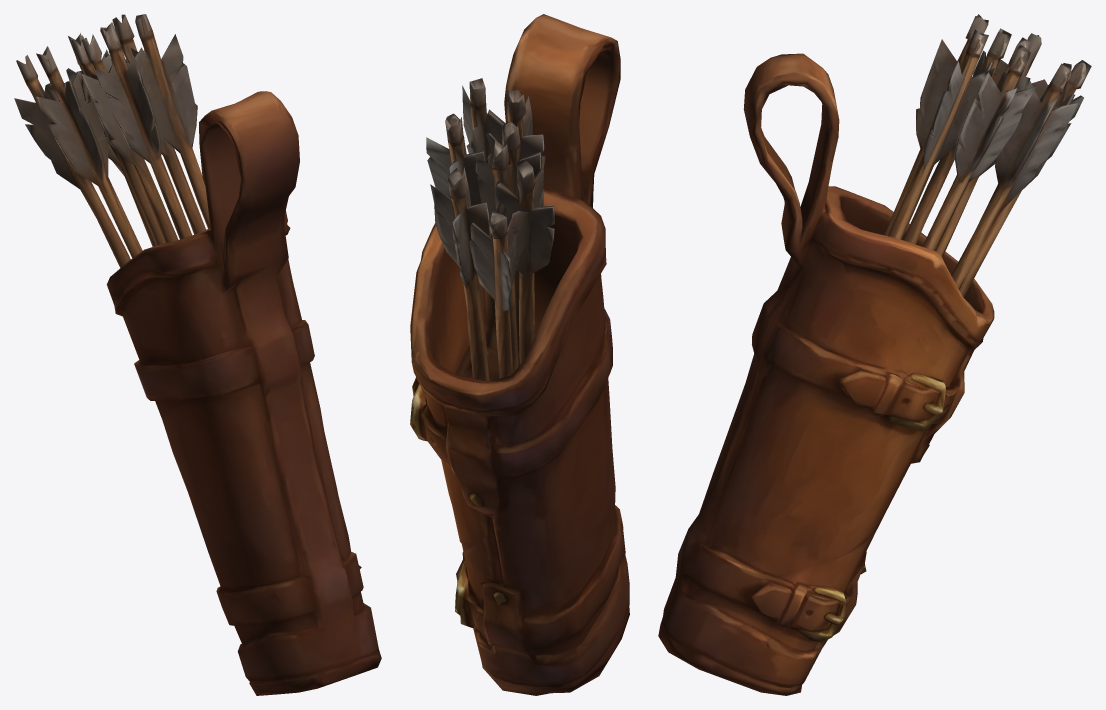
File: quiver.glb
3 views of the same model, side by side, from view 1: azimuth 30°, elevation 25°; view 2: azimuth 150°, elevation 25°; view 3: azimuth 270°, elevation 25° (orthographic). The views are drawn at different scales.
Parts seen in each view (by area): view 1: quiver; view 2: quiver; view 3: quiver.
Part boxes in pixels (<box>): quiver: <box>14,14,381,695</box>; quiver: <box>410,14,629,695</box>; quiver: <box>658,14,1091,695</box>.
Bounding box in the file's own units: 0.2193 × 0.6576 × 0.4102.
Materials: 1 (1 with a texture image).
